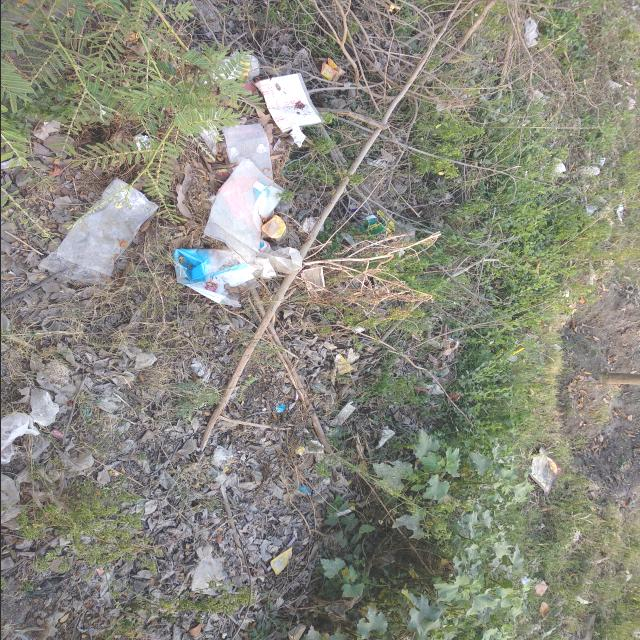Normal paper: (253, 73, 324, 133)
Other plastic: (269, 548, 291, 576), (321, 58, 346, 82), (190, 358, 213, 382), (333, 353, 353, 376), (287, 390, 299, 410), (293, 445, 305, 453), (275, 403, 284, 413)
Other plastic cup: (300, 267, 324, 292)
Plastic film: (37, 178, 158, 286), (202, 157, 284, 265), (172, 248, 259, 307), (221, 124, 272, 181), (1, 412, 39, 464), (191, 556, 222, 595), (215, 52, 258, 80), (255, 247, 301, 273), (249, 257, 277, 279), (196, 125, 216, 153), (262, 215, 284, 239), (524, 17, 538, 48), (260, 238, 271, 255)
Plastic lid: (504, 354, 516, 361)
Plastic straw: (265, 537, 295, 572), (508, 348, 523, 356)
Styrofoam piece: (41, 359, 69, 388), (329, 404, 355, 427), (375, 426, 394, 450), (298, 440, 323, 456), (297, 217, 318, 233)
Unlabeled litter: (528, 448, 562, 495), (288, 126, 305, 148), (132, 134, 149, 150), (307, 222, 324, 234), (362, 215, 378, 227), (50, 429, 63, 439), (296, 487, 310, 496)
